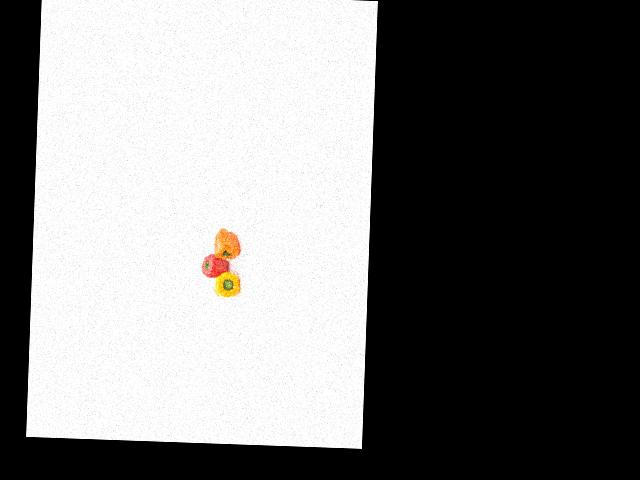bell_pepper: (212, 268, 241, 299)
